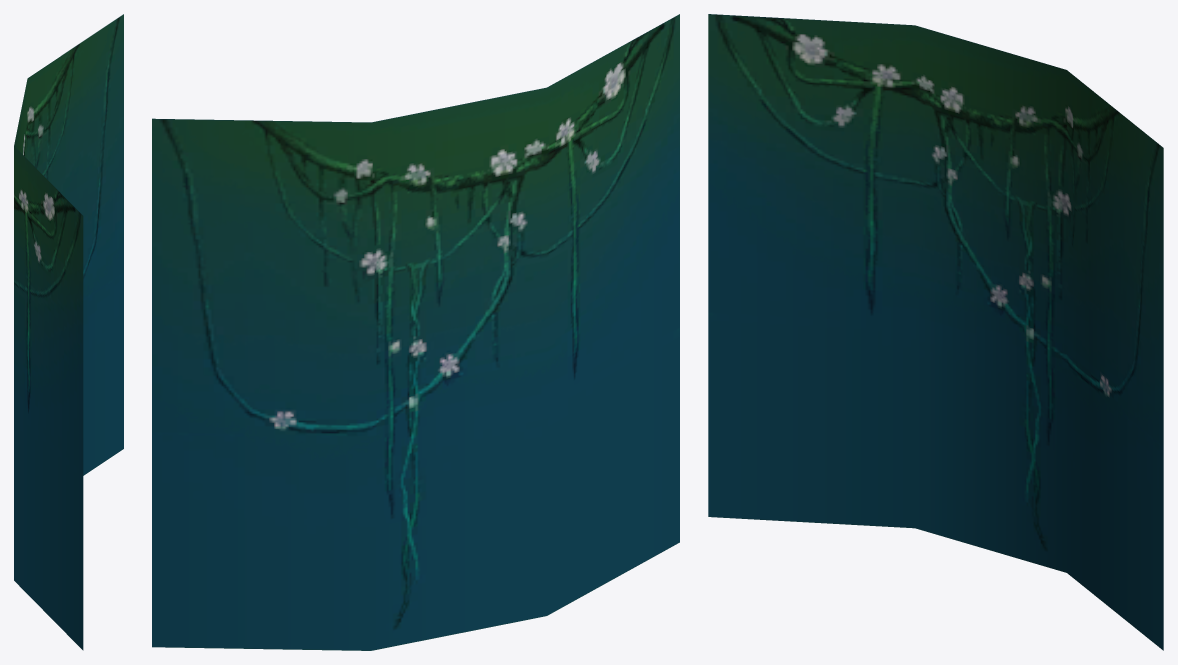
The model's file is wm_灌木藤蔓03.fbx.
3 renders of one model, left to right at view 1: azimuth 30°, elevation 25°; view 2: azimuth 150°, elevation 25°; view 3: azimuth 270°, elevation 25°, orthographic. The views are drawn at different scales.
Parts seen in each view (by area): view 1: wm_灌木藤蔓03; view 2: wm_灌木藤蔓03; view 3: wm_灌木藤蔓03.
Boxes of the visible parts, x1,y1,x2,y2 form: wm_灌木藤蔓03: (14,14,123,650); wm_灌木藤蔓03: (152,14,679,650); wm_灌木藤蔓03: (708,14,1163,650).
Size of the model in its own units: 299 by 523 by 429.
